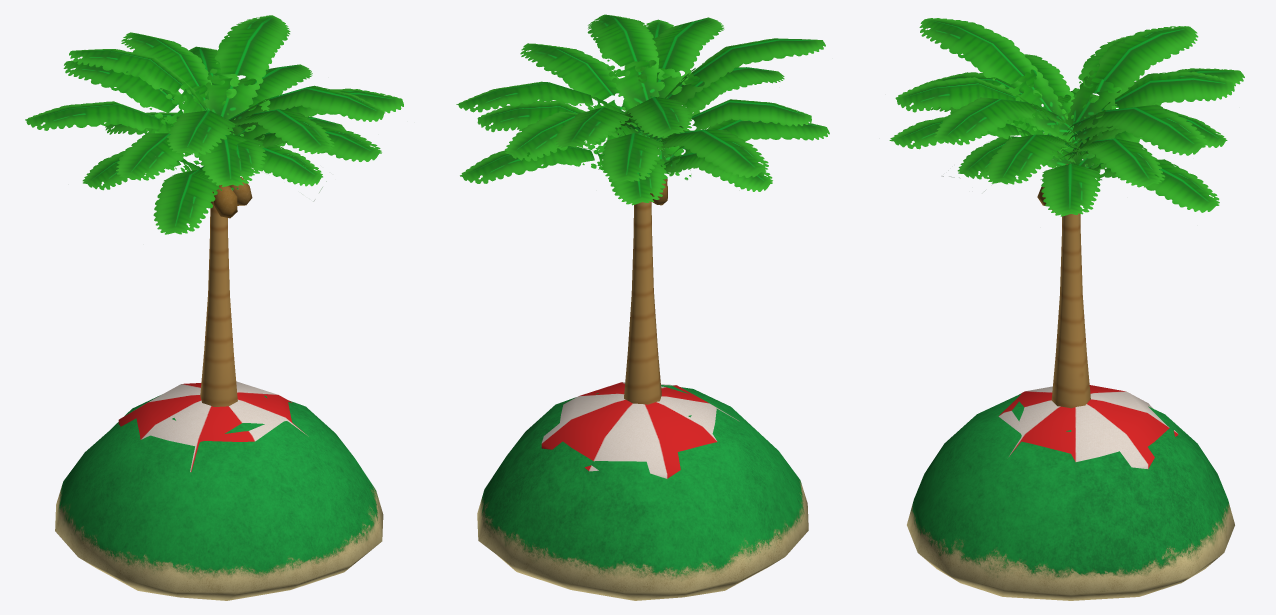
The model's file is stage_water_obj.fbx.
3 renders of one model, left to right at view 1: azimuth 30°, elevation 25°; view 2: azimuth 150°, elevation 25°; view 3: azimuth 270°, elevation 25°, orthographic.
Visible parts, largest first — view 1: stage_water_island, stage_water_beachchair; view 2: stage_water_island, stage_water_beachchair; view 3: stage_water_island, stage_water_beachchair.
Part boxes in pixels (bbox=[...]): stage_water_island: bbox=[25, 15, 403, 600]; stage_water_beachchair: bbox=[118, 381, 308, 472]; stage_water_island: bbox=[456, 14, 829, 600]; stage_water_beachchair: bbox=[541, 382, 739, 478]; stage_water_island: bbox=[889, 18, 1244, 600]; stage_water_beachchair: bbox=[998, 385, 1178, 468].
Size of the model in its own units: 830 by 1120 by 823.
1 material, 1 textured.
